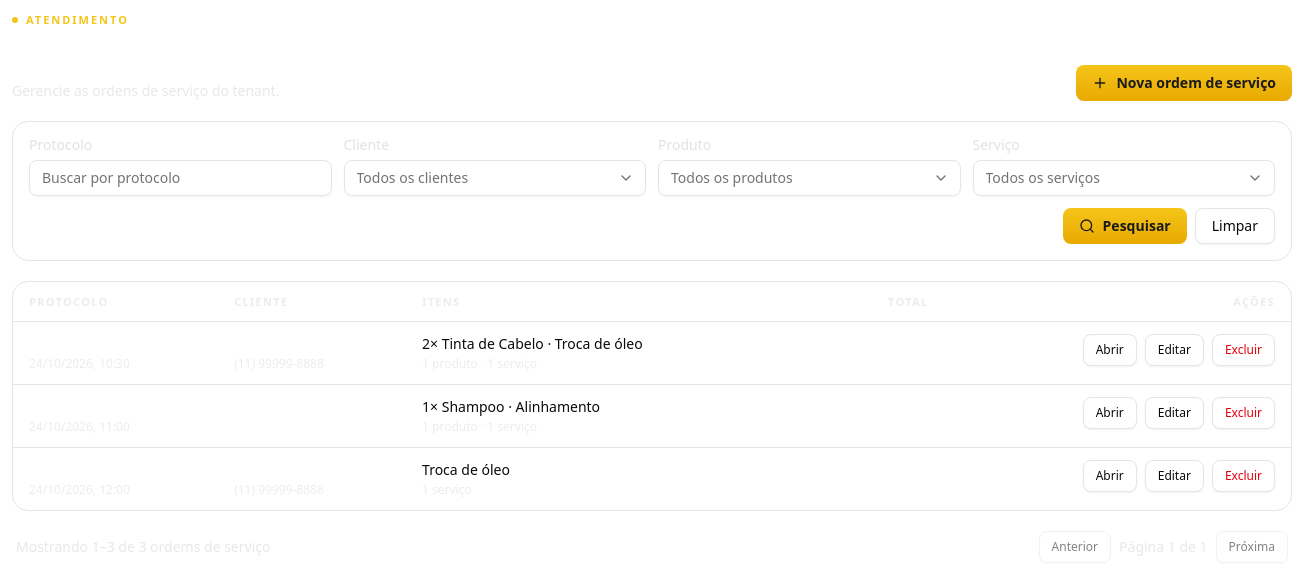
Test: ServiceOrdersScreen › pesquisa clientes no select antes de selecionar
The width and height of the screenshot is (1304, 580).
Type "bru" into the dropdown labelled "Cliente" at (495, 178), box [344,160,646,196]
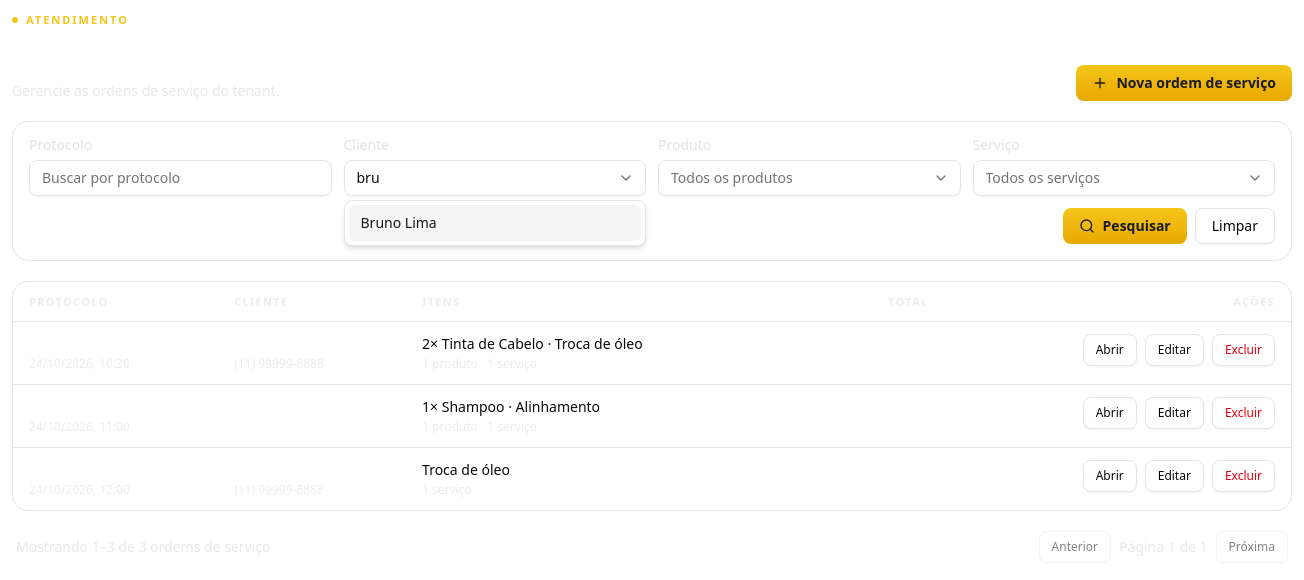
Result: the option "Bruno Lima" is shown
Click the option "Bruno Lima" at (399, 222), box [348,204,641,240]
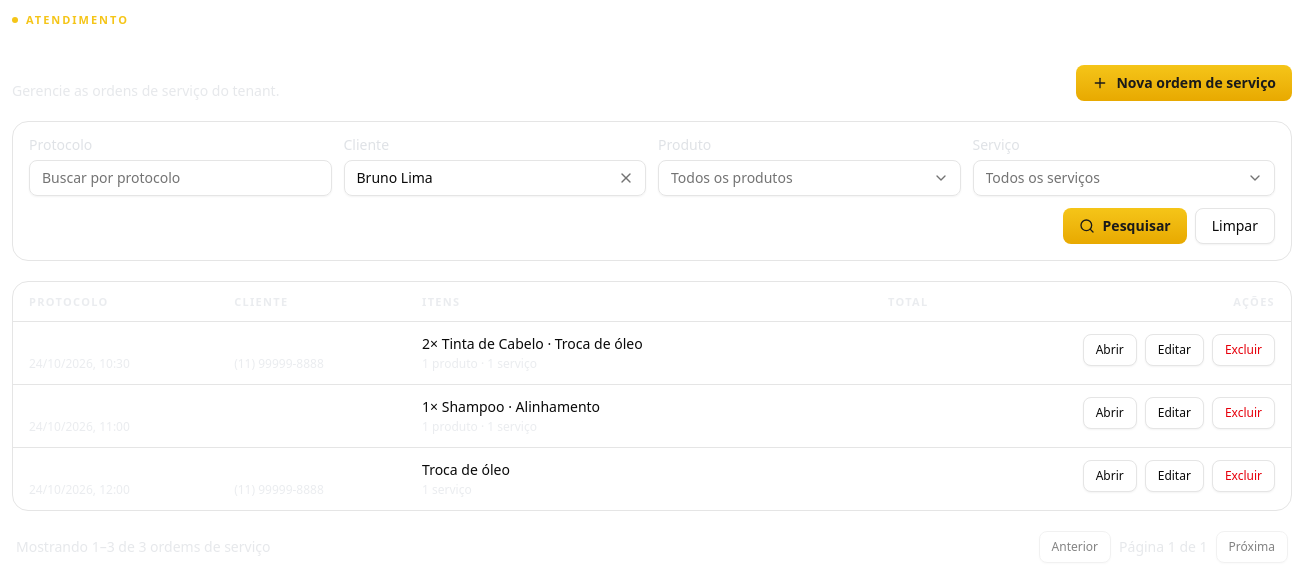
Result: the dropdown labelled "Cliente" holds "Bruno Lima" at [344,160,646,196]
Result: the list is gone
